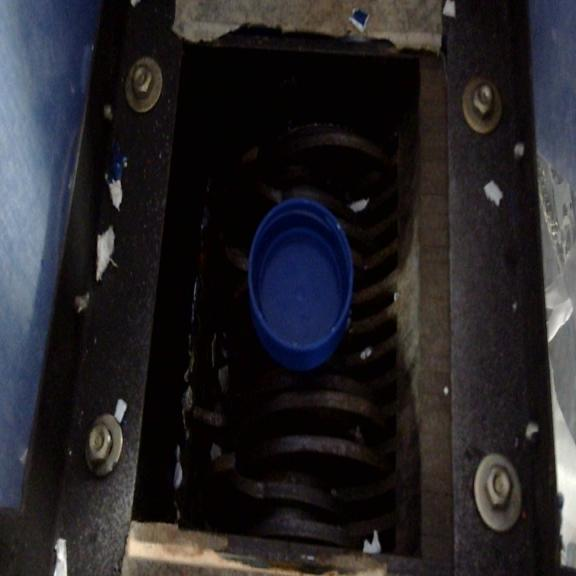Plastik: (220, 189, 374, 384)
